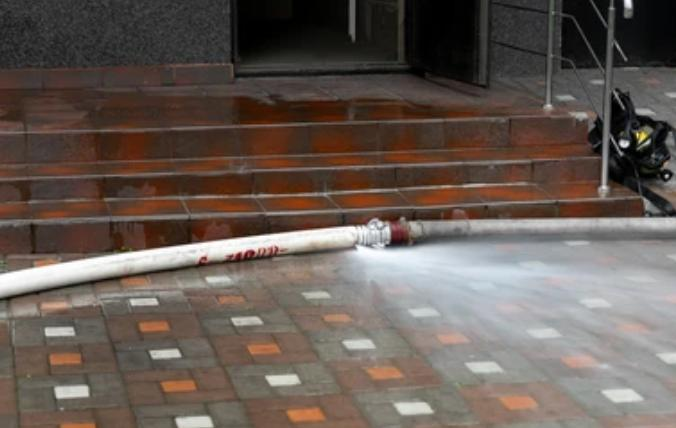pipe burst: (352, 238, 676, 428)
